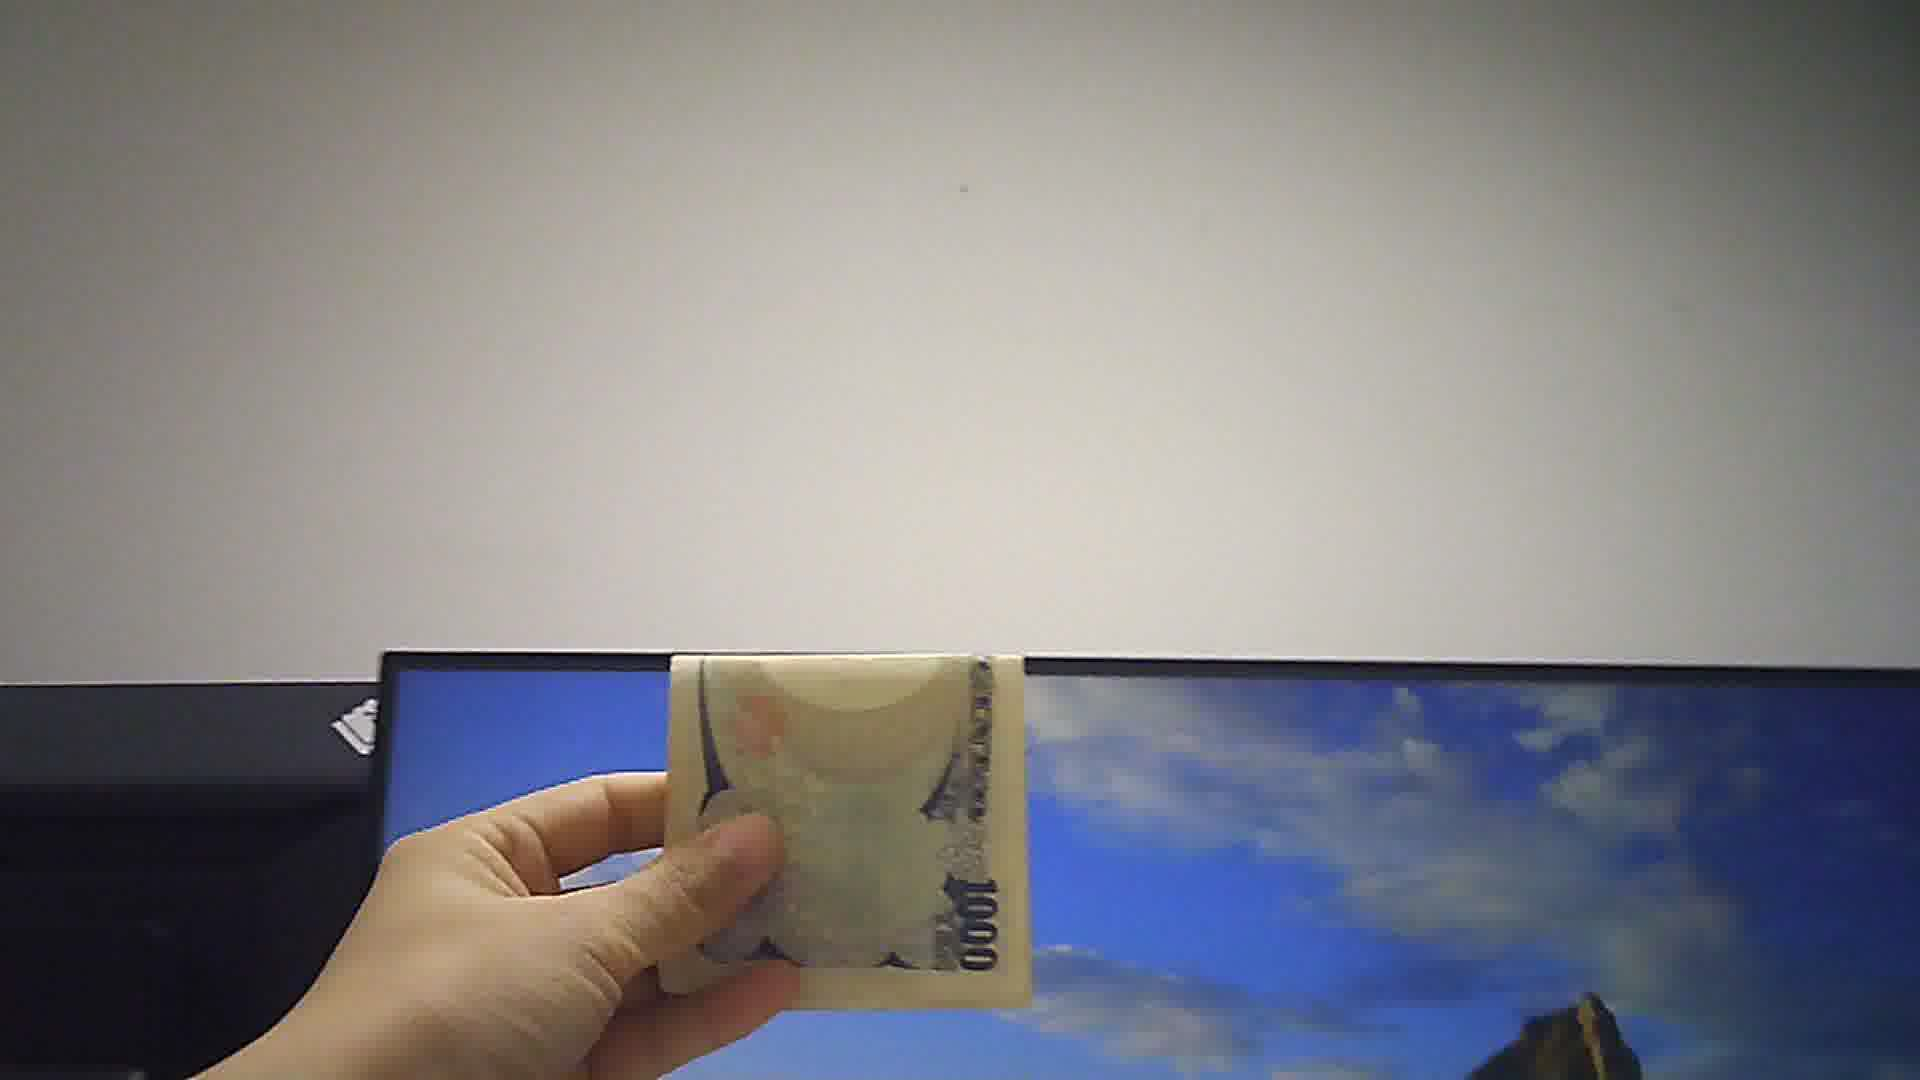1,000 Yen: (651, 640, 1022, 1015)
